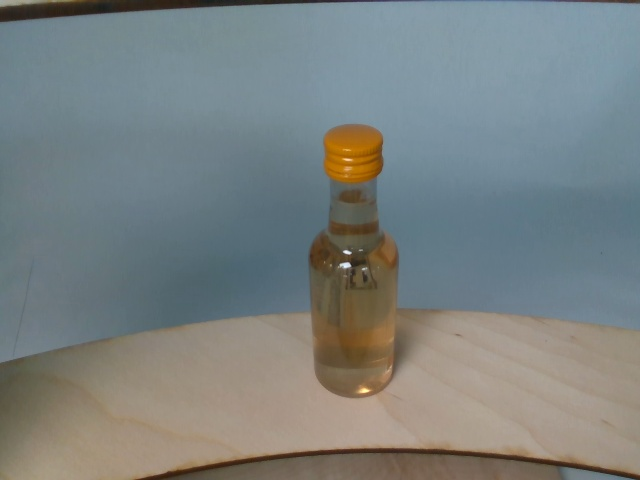ginger_beer: (311, 124, 401, 399)
